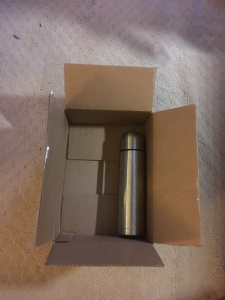innerbox: (65, 109, 153, 240)
outerbox: (38, 65, 203, 269)
product: (118, 131, 148, 237)
